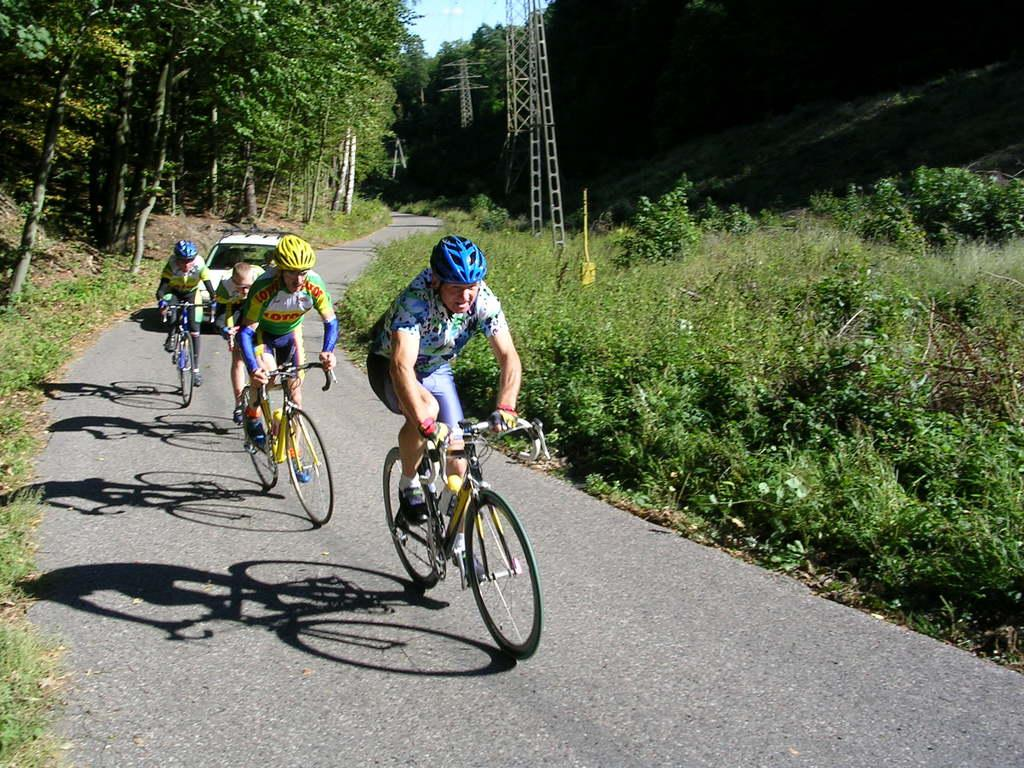helmet: (264, 260, 332, 312), (154, 257, 222, 309), (421, 268, 489, 320)
none: (238, 301, 336, 389), (394, 301, 492, 389)
